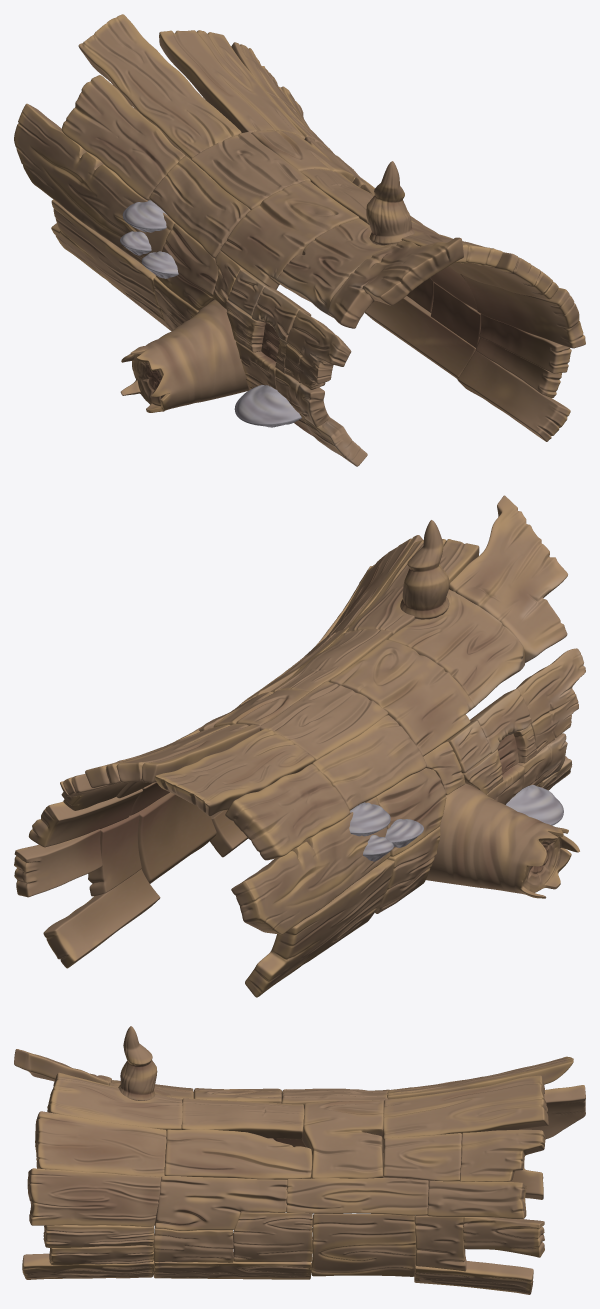
3 renders of one model, top to bottom at view 1: azimuth 30°, elevation 25°; view 2: azimuth 150°, elevation 25°; view 3: azimuth 270°, elevation 25°, orthographic. The views are drawn at different scales.
Visible parts, largest first — view 1: Wood, Shrooms; view 2: Wood, Shrooms; view 3: Wood.
Part boxes in pixels (box(x1,y1,x2,y2)): Wood: box(14, 14, 585, 466); Shrooms: box(120, 200, 301, 427); Wood: box(14, 495, 585, 997); Shrooms: box(349, 784, 563, 861); Wood: box(14, 1026, 585, 1294).
Size of the model in its own units: 137 by 105 by 240.
